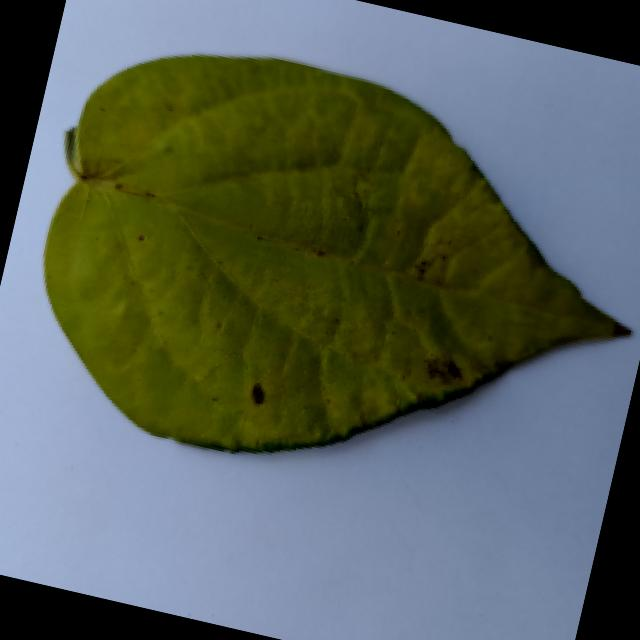slow-decline: (2, 8, 640, 545)
